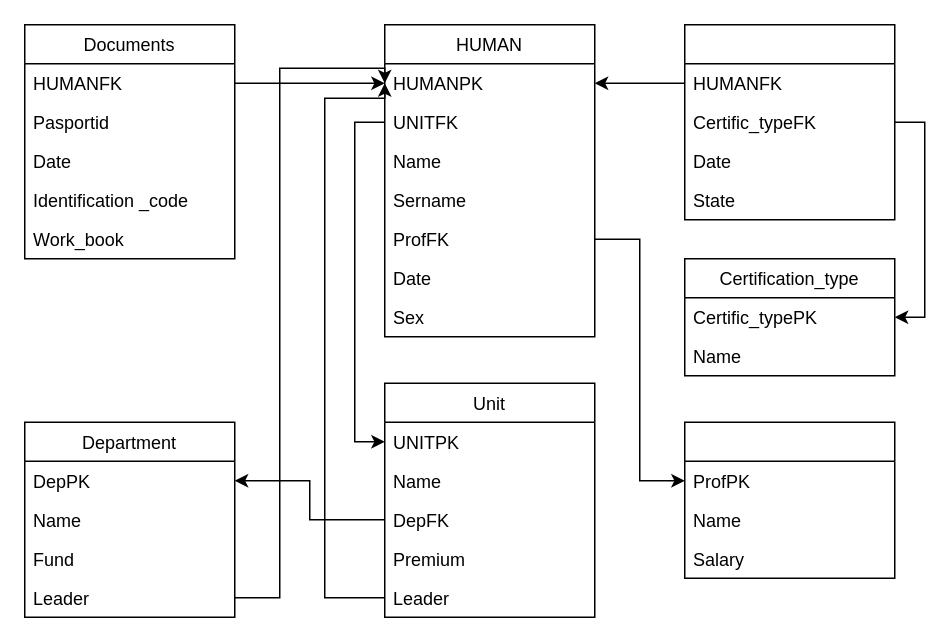
Image size: 950x642. Some labels were removed from this diagram. The shapes that lost their labels are listed below. From the top down, each one's box as (x1, y1, x2, y2) in pixels, then its label:
(683, 23, 895, 220): Certification
(683, 421, 895, 578): Profession
